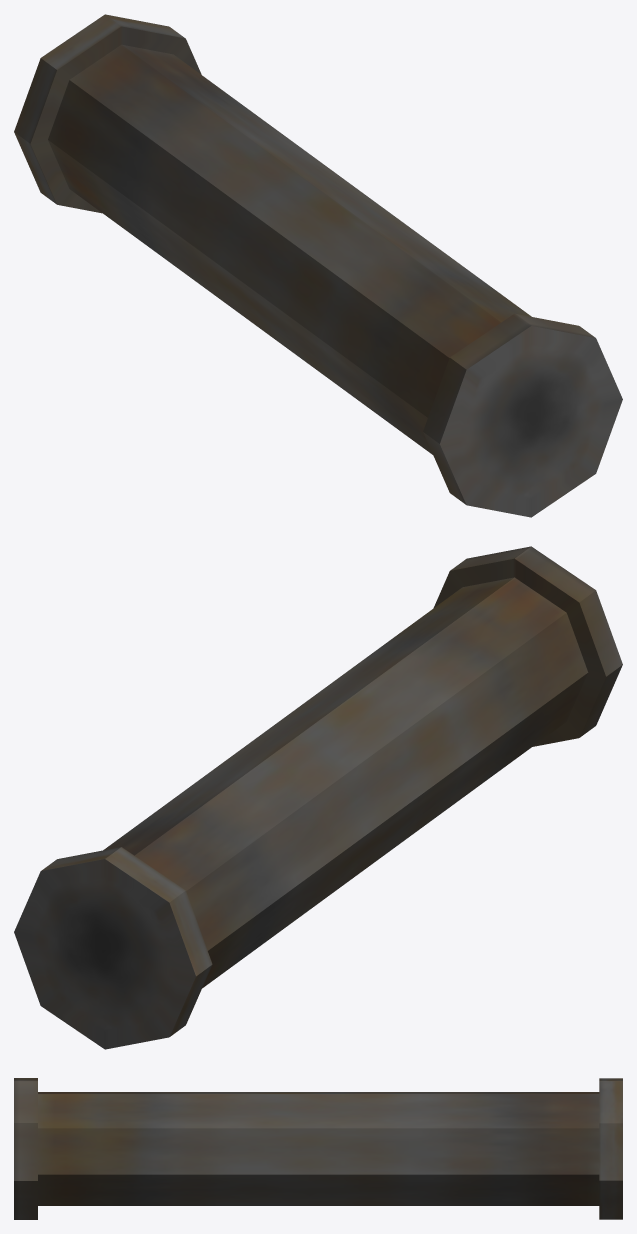
File: pipe_double_grime.fbx
3 views of the same model, one above another, from view 1: azimuth 30°, elevation 25°; view 2: azimuth 150°, elevation 25°; view 3: azimuth 270°, elevation 25° (orthographic). The views are drawn at different scales.
Visible parts, largest first — view 1: pipe_double_grime; view 2: pipe_double_grime; view 3: pipe_double_grime.
Part boxes in pixels (x1=…): pipe_double_grime: x1=14, y1=14, x2=622, y2=517; pipe_double_grime: x1=14, y1=546, x2=622, y2=1049; pipe_double_grime: x1=14, y1=1078, x2=622, y2=1219.
Size of the model in its own units: 0.124 by 0.124 by 0.5.
Materials: 1 (1 with a texture image).
